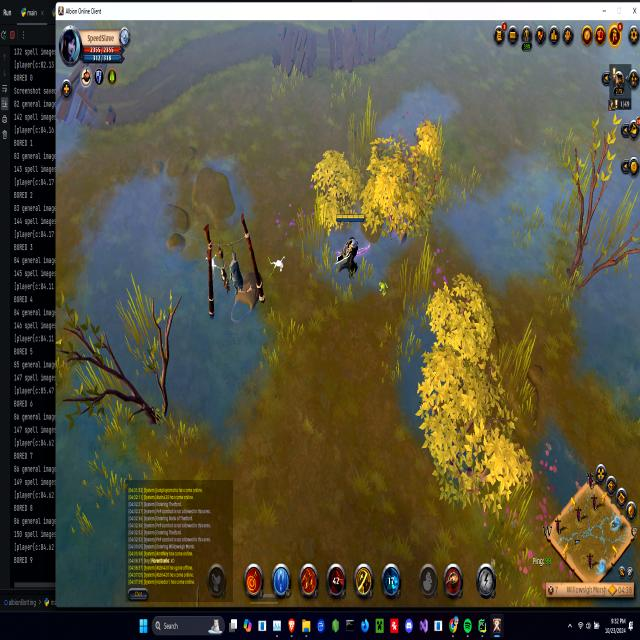red: (334, 205, 369, 288)
